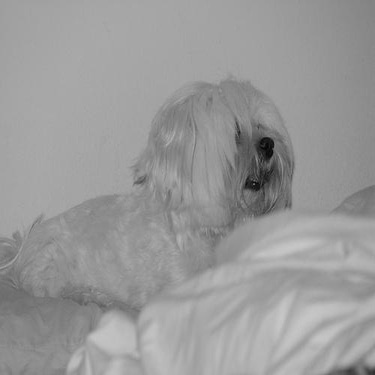dog: (3, 62, 303, 321)
